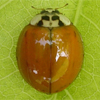Red: (15, 9, 83, 94)
